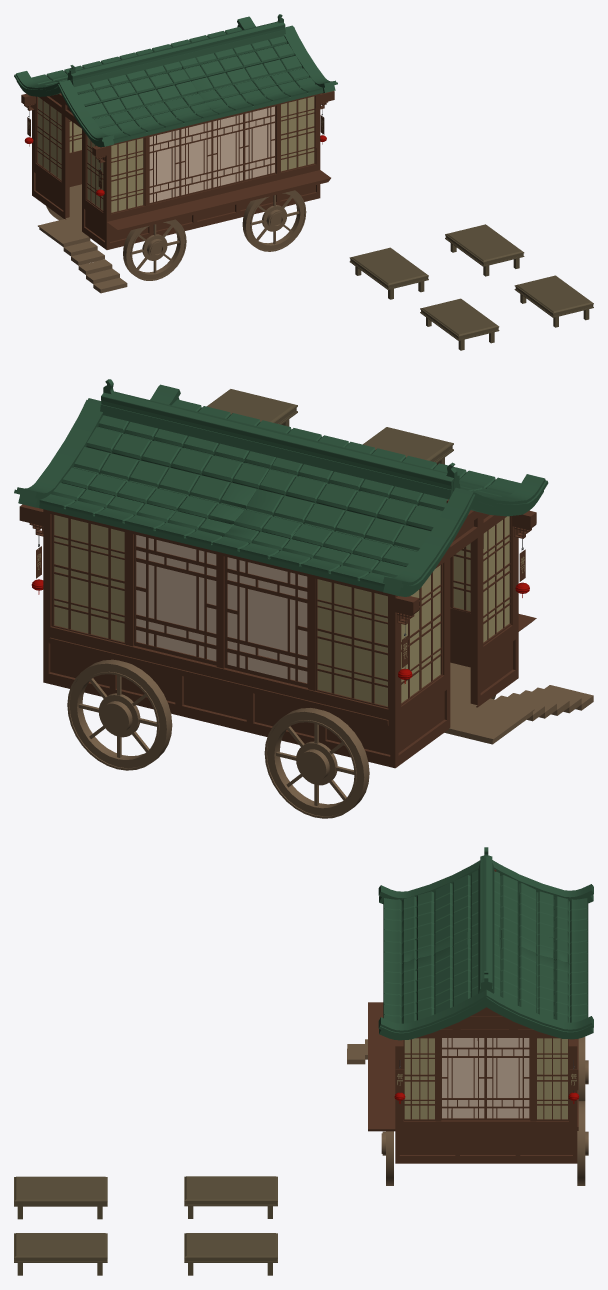
File: carritofinal.fbx
3 views of the same model, one above another, from view 1: azimuth 30°, elevation 25°; view 2: azimuth 150°, elevation 25°; view 3: azimuth 270°, elevation 25° (orthographic). The views are drawn at different scales.
Visible parts, largest first — view 1: Techo.001, Carrito, Paneles_Adelante_Nomover, Ruedas, Paneles_Izquierda_Nomover, BaseEscalera, Panel03_ADELANTE, Panel02_ADELANTE, Panel04_ADELANTE, Panel01_ADELANTE.001, Mesa1EXterior.001, Mesa1EXterior.002 (+3 smaller); view 2: Techo.001, Carrito, Paneles_Detras_Nomover, Ruedas, Pane02_ATRAS, Pane01_ATRAS, Paneles_Izquierda_Nomover, BaseEscalera, Mesa1EXterior.002, Mesa1EXterior.003, Paneles_Adelante_Nomover, PisoCarrito.001 (+1 smaller); view 3: Techo.001, Carrito, Paneles_Izquierda_Nomover.001, Plane02_DERECHA, Plane01_DERECHA, Mesa1EXterior.003, Mesa1EXterior, Mesa1EXterior.001, Mesa1EXterior.002, Ruedas, AdornoCarritoColgante.
Part boxes in pixels (x1,y1,x2,y2): Techo.001: [14, 14, 337, 147]; Carrito: [21, 91, 334, 249]; Paneles_Adelante_Nomover: [111, 96, 315, 213]; Ruedas: [46, 190, 306, 280]; Paneles_Izquierda_Nomover: [36, 96, 103, 211]; BaseEscalera: [38, 219, 127, 293]; Panel03_ADELANTE: [212, 113, 244, 189]; Panel02_ADELANTE: [180, 121, 212, 196]; Panel04_ADELANTE: [244, 105, 275, 181]; Panel01_ADELANTE.001: [149, 129, 180, 204]; Mesa1EXterior.001: [445, 224, 524, 276]; Mesa1EXterior.002: [514, 275, 593, 327]; Techo.001: [14, 379, 548, 596]; Carrito: [19, 499, 536, 768]; Paneles_Detras_Nomover: [51, 514, 388, 708]; Ruedas: [67, 659, 495, 818]; Pane02_ATRAS: [224, 556, 307, 687]; Pane01_ATRAS: [134, 534, 216, 665]; Paneles_Izquierda_Nomover: [401, 516, 511, 705]; BaseEscalera: [444, 685, 593, 744]; Mesa1EXterior.002: [207, 389, 297, 426]; Mesa1EXterior.003: [363, 427, 453, 464]; Paneles_Adelante_Nomover: [451, 543, 470, 612]; PisoCarrito.001: [450, 662, 477, 724]; Techo.001: [378, 847, 593, 1040]; Carrito: [368, 869, 578, 1163]; Paneles_Izquierda_Nomover.001: [404, 1038, 568, 1120]; Plane02_DERECHA: [485, 1038, 530, 1120]; Plane01_DERECHA: [441, 1038, 485, 1120]; Mesa1EXterior.003: [14, 1176, 107, 1219]; Mesa1EXterior: [184, 1176, 277, 1218]; Mesa1EXterior.001: [184, 1233, 277, 1275]; Mesa1EXterior.002: [14, 1233, 107, 1275]; Ruedas: [381, 1037, 588, 1185]; AdornoCarritoColgante: [394, 1060, 579, 1103].
Bounding box in the file's own units: 13.12 × 6.83 × 15.1.
